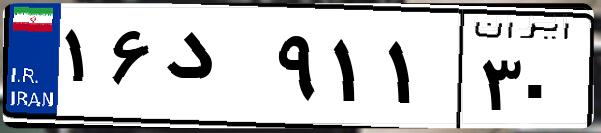0: (525, 38, 570, 115)
1: (385, 28, 445, 110), (330, 28, 385, 110), (57, 26, 110, 100)
3: (475, 38, 525, 113)
6: (110, 28, 158, 98)
9: (270, 28, 330, 110)
د: (158, 20, 270, 120)
